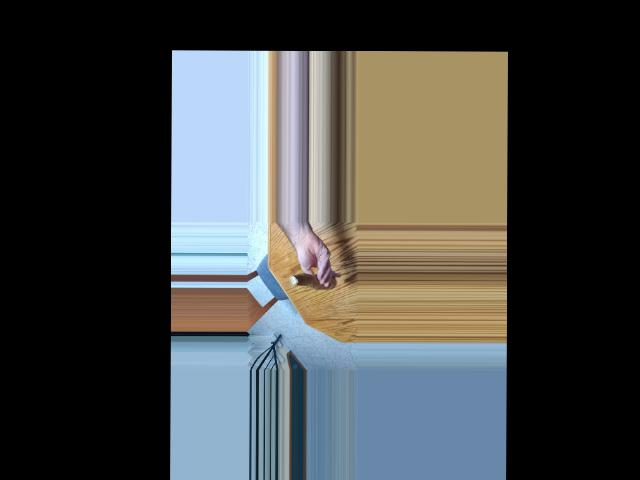sweet_potato: (293, 270, 332, 292)
